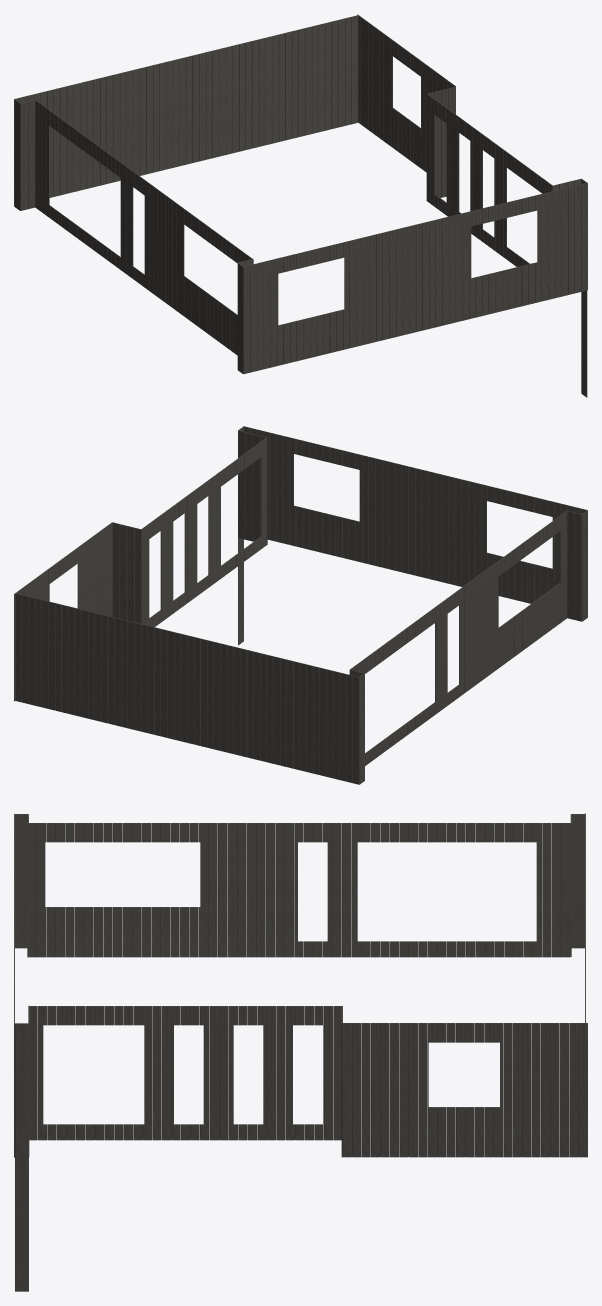
The model's file is OG_Fassade.gltf.
3 views of the same model, one above another, from view 1: azimuth 30°, elevation 25°; view 2: azimuth 150°, elevation 25°; view 3: azimuth 270°, elevation 25° (orthographic). The views are drawn at different scales.
Visible parts, largest first — view 1: holzfassade.029, holzfassade.036, holzfassade.039, holzfassade.032, holzfassade.030, holzfassade.038, holzfassade.031, holzfassade.037, holzfassade.041, holzfassade.035; view 2: holzfassade.029, holzfassade.036, holzfassade.039, holzfassade.032, holzfassade.030, holzfassade.031, holzfassade.033, holzfassade.040, holzfassade.041, holzfassade.037, holzfassade.035; view 3: holzfassade.039, holzfassade.030, holzfassade.032, holzfassade.034, holzfassade.035, holzfassade.041, holzfassade.037.
Part boxes in pixels (box(x1,y1,x2,y2)): holzfassade.029: box(14, 15, 358, 206); holzfassade.036: box(243, 182, 587, 373); holzfassade.039: box(35, 100, 253, 355); holzfassade.032: box(426, 94, 553, 266); holzfassade.030: box(357, 14, 455, 172); holzfassade.038: box(20, 100, 35, 210); holzfassade.031: box(426, 87, 455, 197); holzfassade.037: box(237, 263, 243, 374); holzfassade.041: box(14, 99, 20, 210); holzfassade.035: box(581, 290, 587, 397); holzfassade.029: box(15, 593, 359, 784); holzfassade.036: box(243, 426, 587, 603); holzfassade.039: box(349, 510, 567, 765); holzfassade.032: box(141, 437, 266, 627); holzfassade.030: box(14, 522, 112, 701); holzfassade.031: box(112, 522, 141, 623); holzfassade.033: box(238, 430, 267, 544); holzfassade.040: box(567, 510, 581, 621); holzfassade.041: box(359, 673, 364, 784); holzfassade.037: box(582, 510, 587, 621); holzfassade.035: box(238, 538, 243, 645); holzfassade.039: box(27, 823, 570, 957); holzfassade.030: box(342, 1023, 587, 1157); holzfassade.032: box(29, 1006, 342, 1140); holzfassade.034: box(15, 1023, 28, 1157); holzfassade.035: box(15, 1157, 28, 1291); holzfassade.041: box(571, 814, 584, 948); holzfassade.037: box(14, 814, 27, 948).
Bounding box in the file's own units: 10.42 × 6.21 × 12.03.
Materials: 2 (2 with a texture image).
